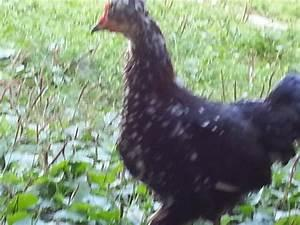hen: (90, 0, 299, 224)
